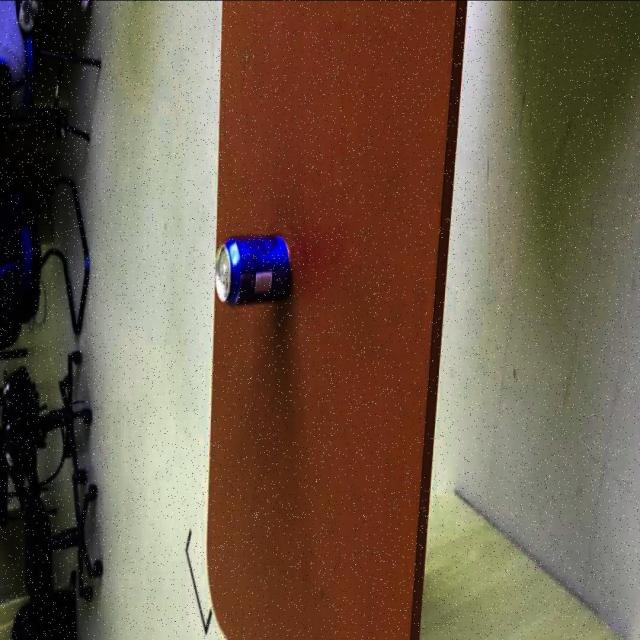Tonic: (213, 235, 290, 307)
